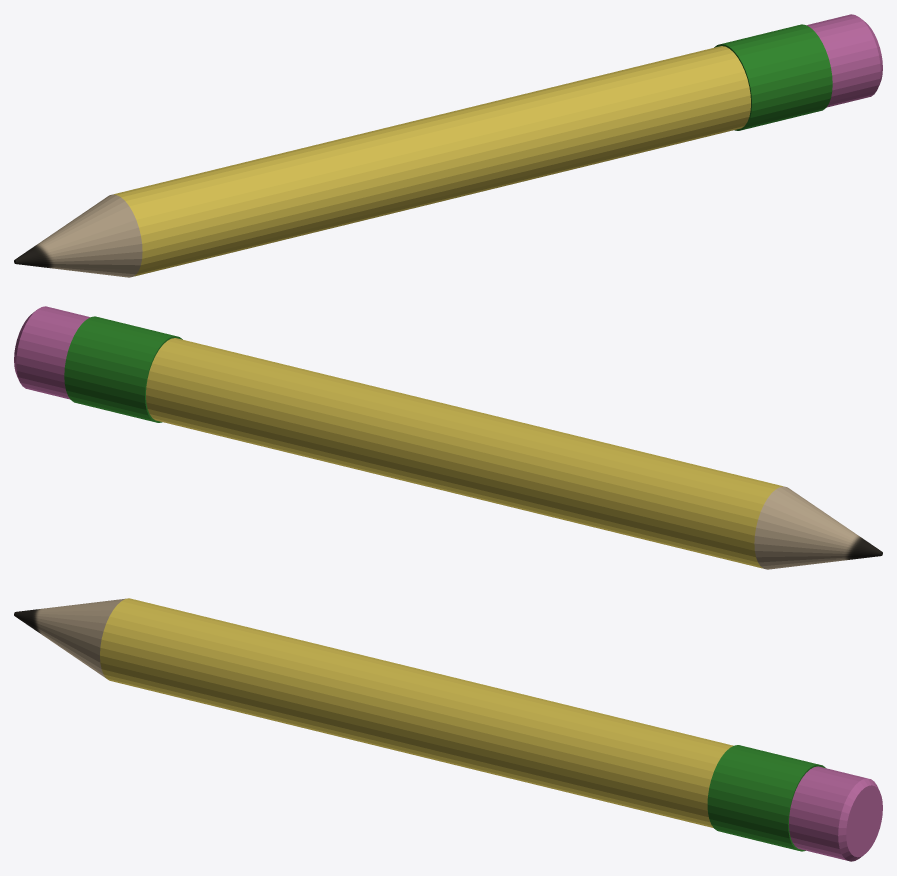
The model's file is Pencil 1.fbx.
3 views of the same model, one above another, from view 1: azimuth 30°, elevation 25°; view 2: azimuth 150°, elevation 25°; view 3: azimuth 330°, elevation 25° (orthographic).
Visible parts, largest first — view 1: Cylinder; view 2: Cylinder; view 3: Cylinder.
Boxes of the visible parts, bbox=[...] form: Cylinder: bbox=[14, 14, 882, 277]; Cylinder: bbox=[14, 306, 882, 569]; Cylinder: bbox=[14, 598, 882, 861].
Bounding box in the file's own units: 230 × 20.91 × 20.91.
Materials: 1 (1 with a texture image).
